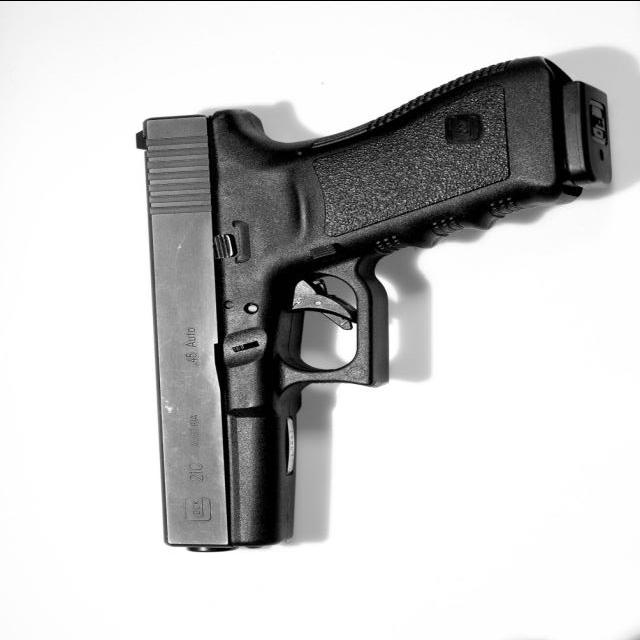pistol: (129, 53, 614, 565)
